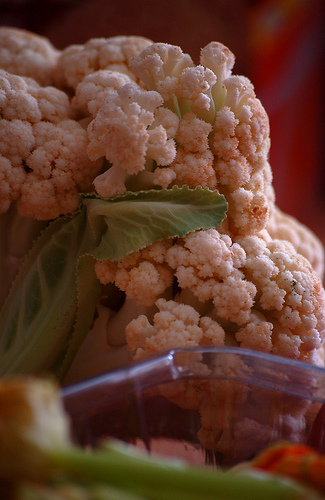cauliflower: (0, 25, 275, 232), (95, 232, 323, 457)
